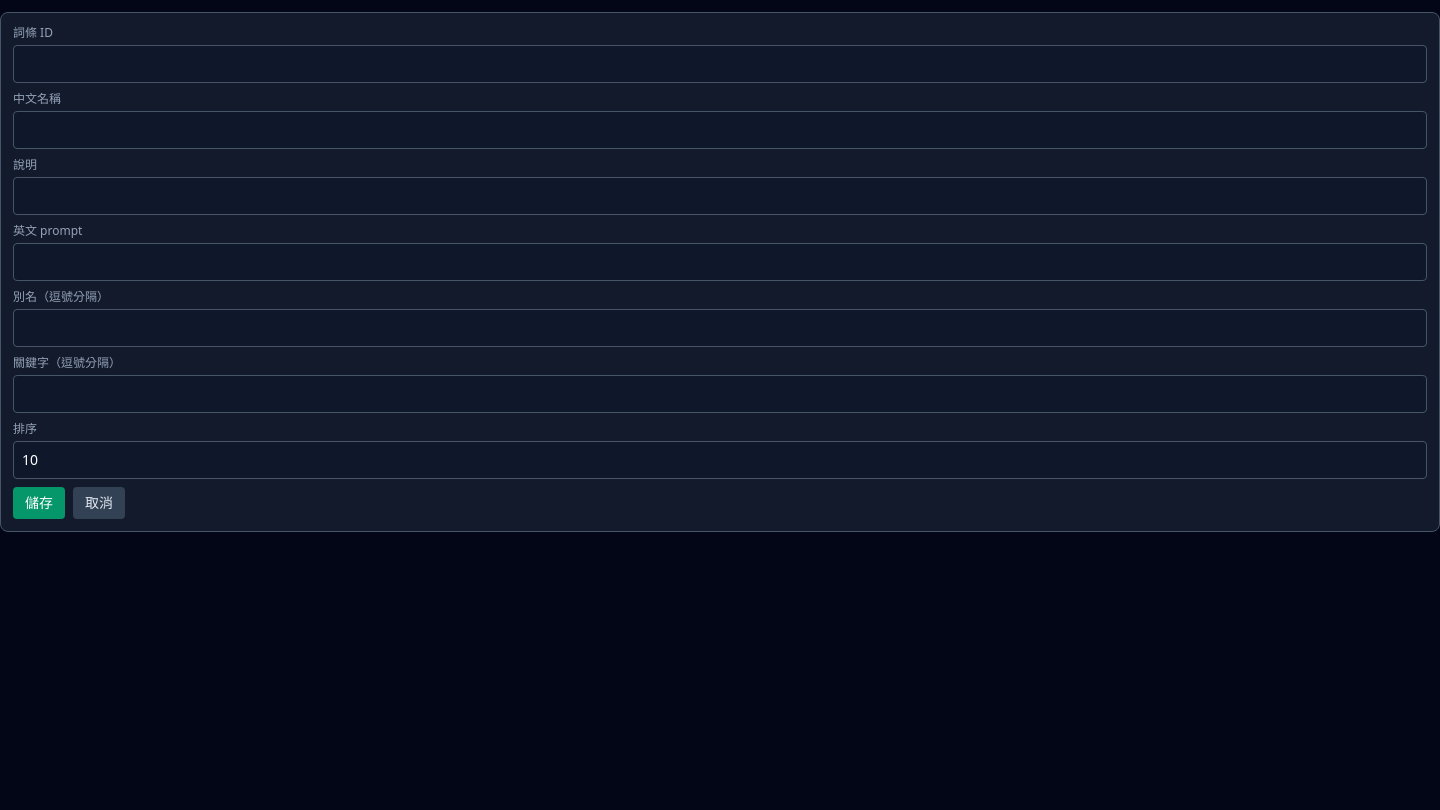
Test case: PromptEntryEditor › rejects a duplicate id in create mode
Step 1. Type "masterpiece" into the field labelled "詞條 ID" → (720, 64), box [13,45,1427,83]
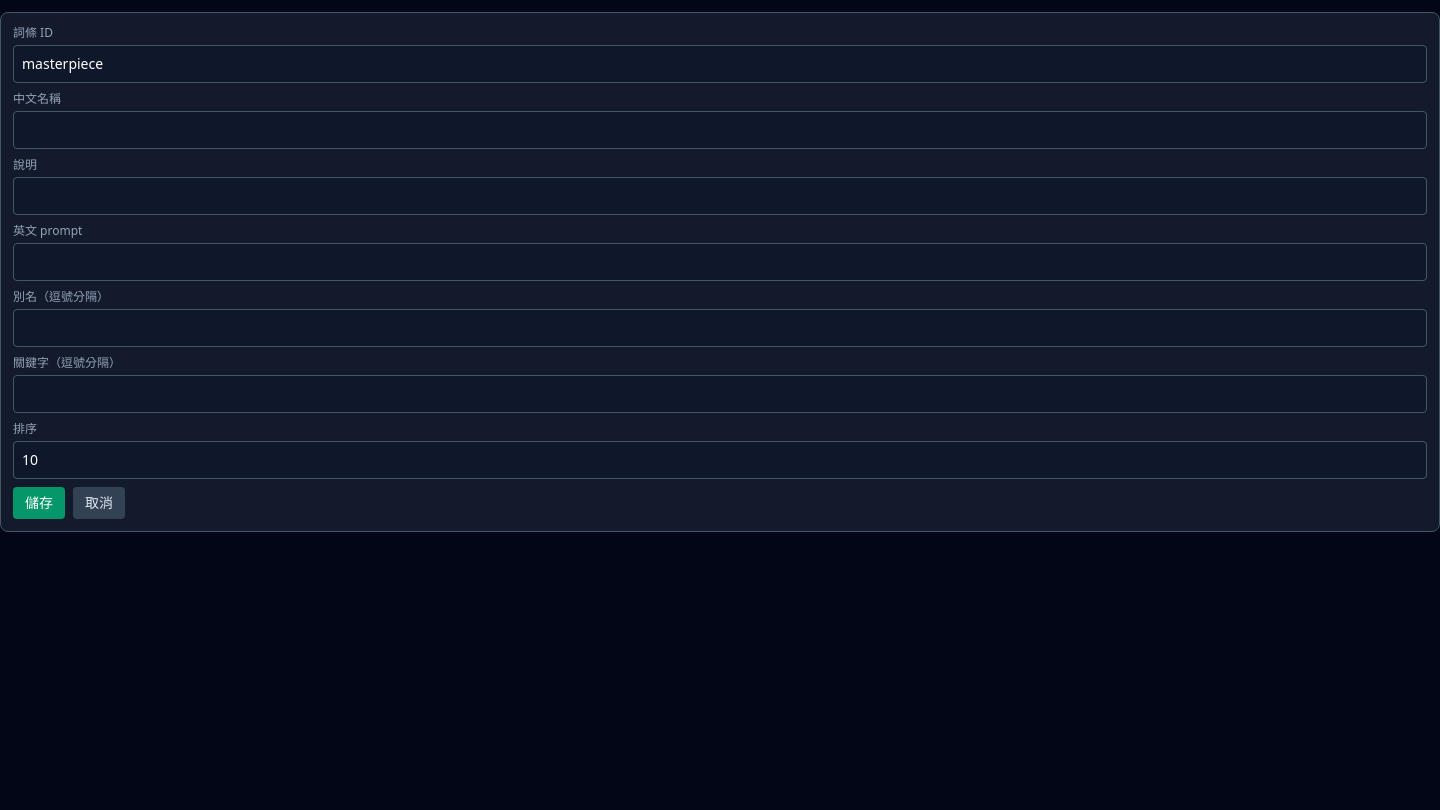
Step 2. Type "傑作" into the field named "詞條中文名稱" → (720, 130), box [13,111,1427,149]
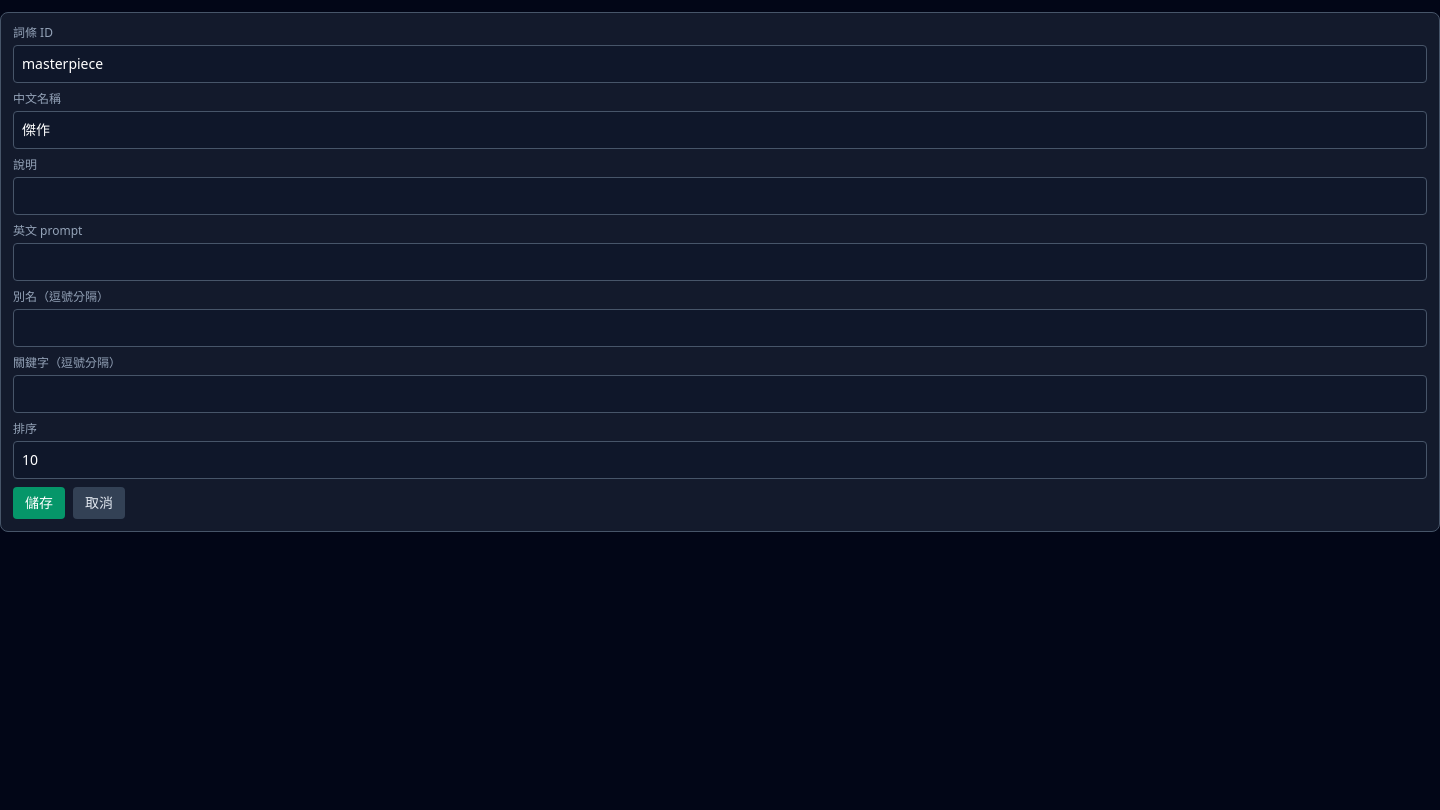
Step 3. Type "說明" into the field named "詞條說明" → (720, 196), box [13,177,1427,215]
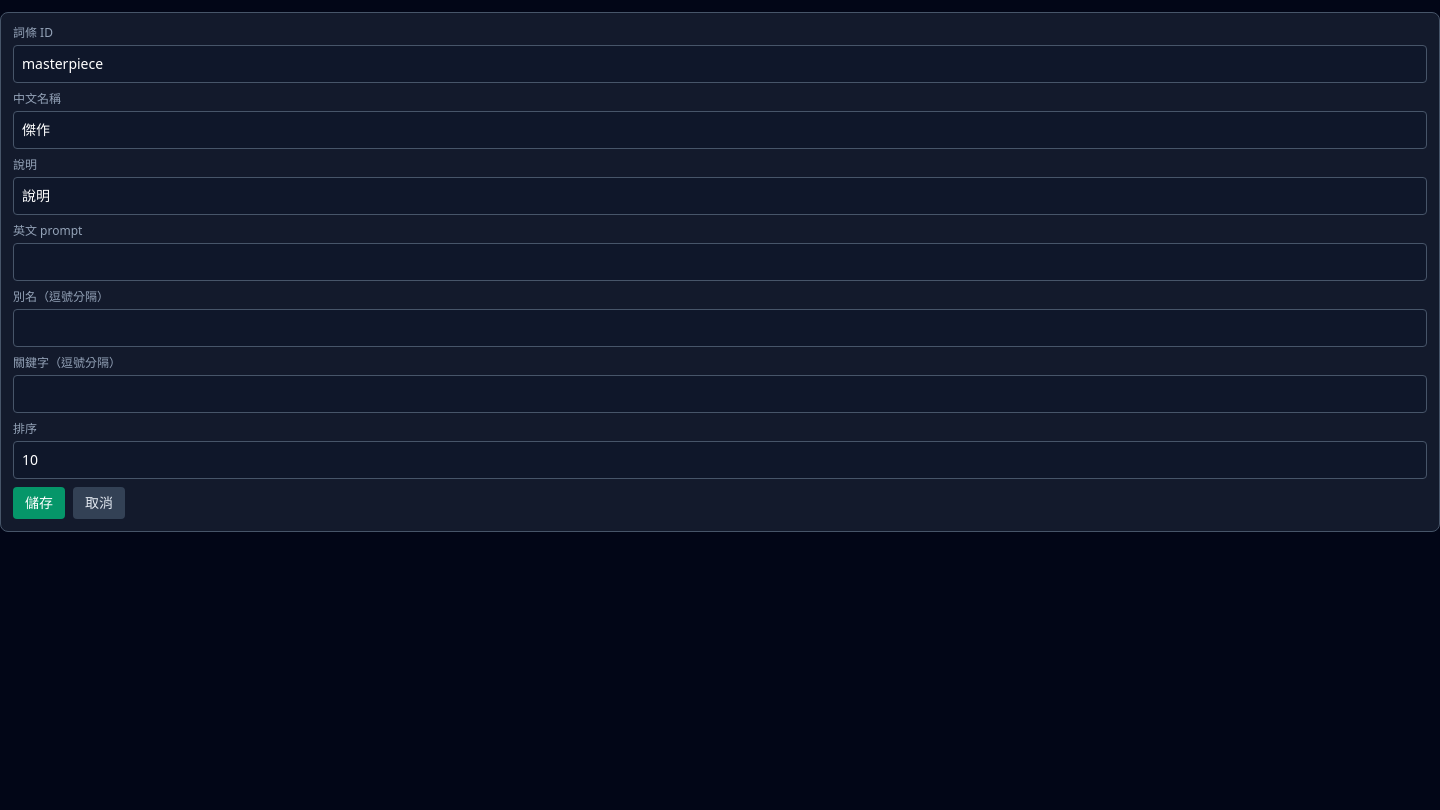
Step 4. Type "masterpiece" into the field named "詞條英文 prompt" → (720, 262), box [13,243,1427,281]
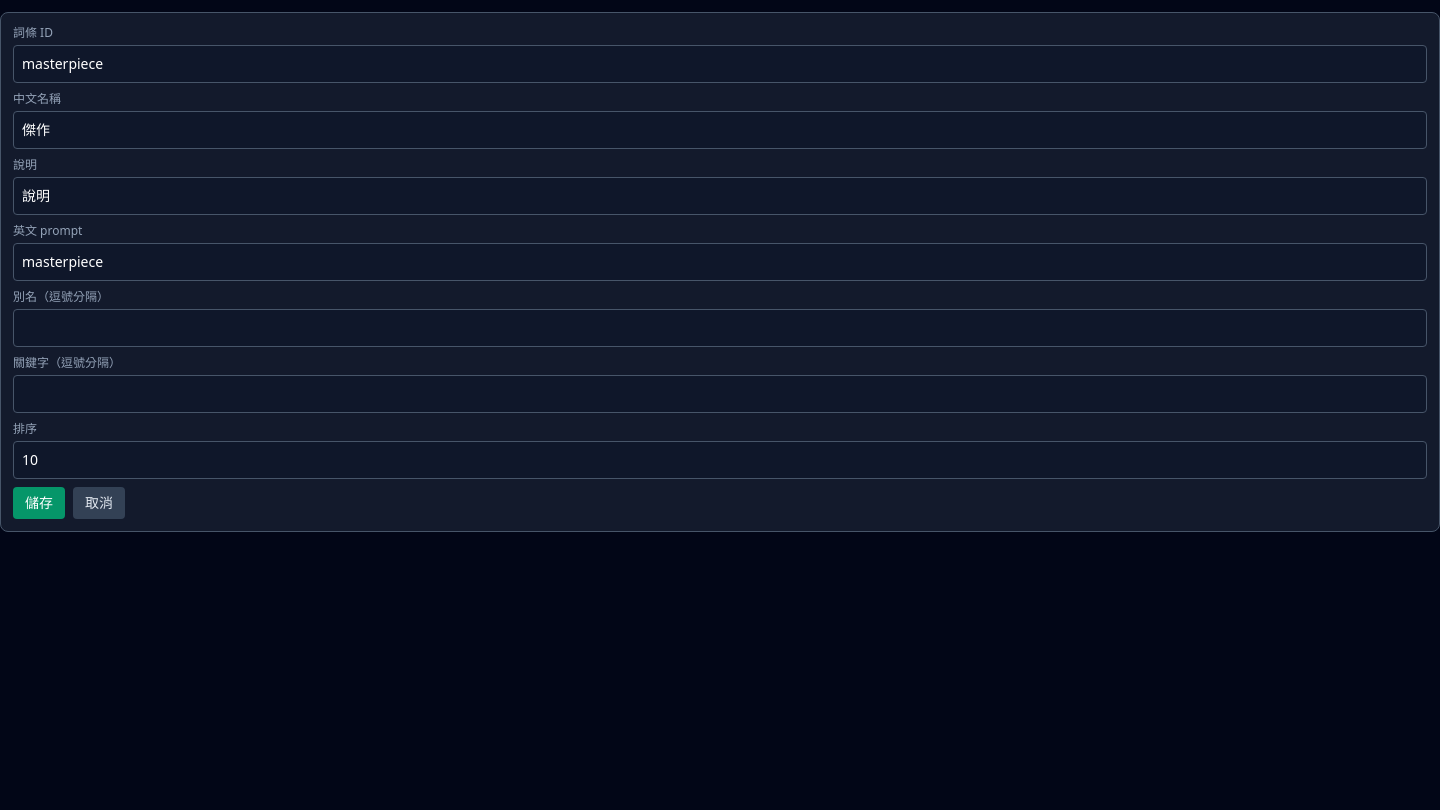
Step 5. Click the button "儲存" → (39, 503), box [13,487,65,519]
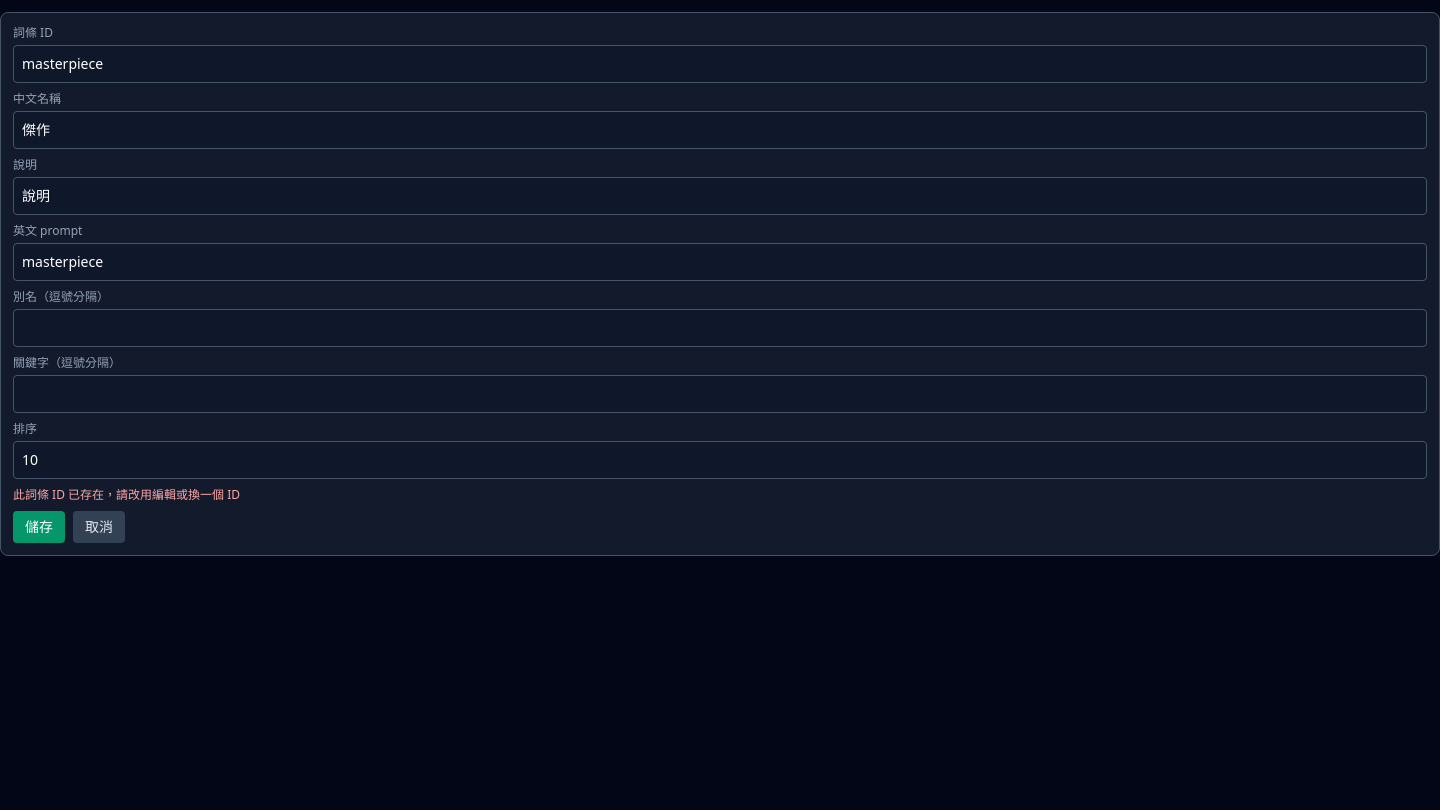
Result: the message "此詞條 ID 已存在，請改用編輯或換一個 ID" is shown at [13,486,240,503]
